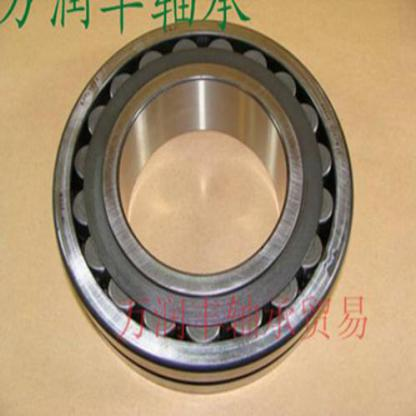FOD: (51, 14, 358, 392)
